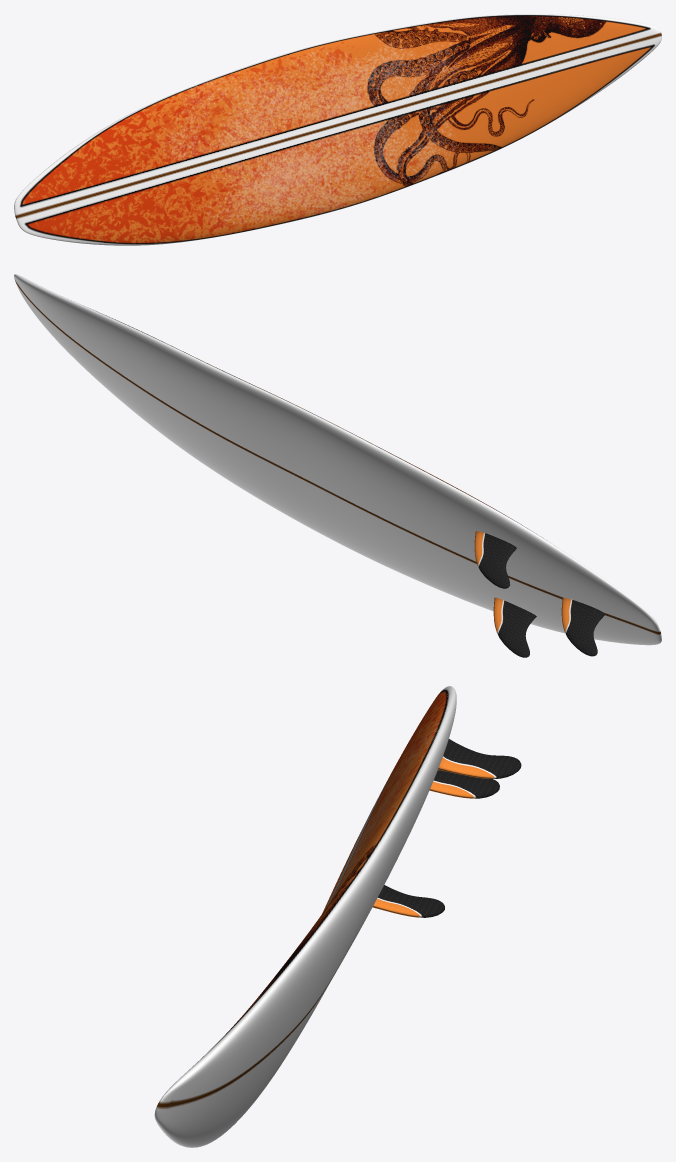
File: board.gltf
The picture shows the model from 3 angles, top to bottom: view 1: azimuth 30°, elevation 25°; view 2: azimuth 150°, elevation 25°; view 3: azimuth 270°, elevation 25°; orthographic projection. The views are drawn at different scales.
Parts seen in each view (by area): view 1: Prancha; view 2: Prancha, Cube, Cube.001, Cube.002; view 3: Prancha, Cube.002, Cube.001, Cube.
Part boxes in pixels (x1,y1,x2,y2): Prancha: (14, 14, 661, 245); Prancha: (14, 274, 661, 645); Cube: (561, 598, 605, 656); Cube.001: (493, 597, 536, 657); Cube.002: (474, 531, 516, 588); Prancha: (154, 686, 456, 1147); Cube.002: (438, 739, 521, 778); Cube.001: (372, 885, 444, 917); Cube: (429, 770, 499, 798).
Bounding box in the file's own units: 4.69 × 1.2 × 1.29.
2 materials, 2 textured.
